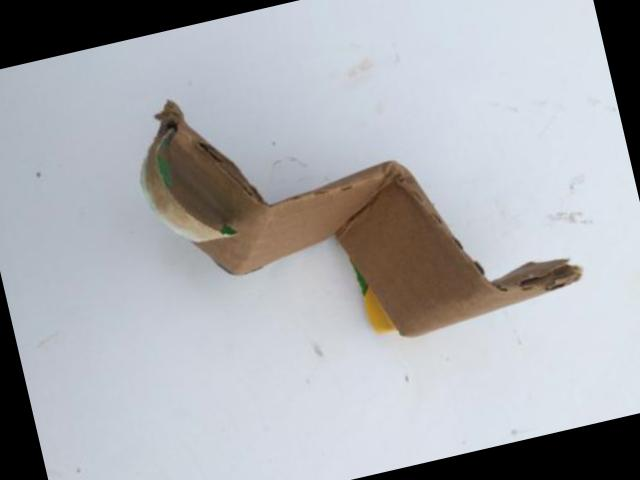cardboard paper: (143, 101, 581, 337)
